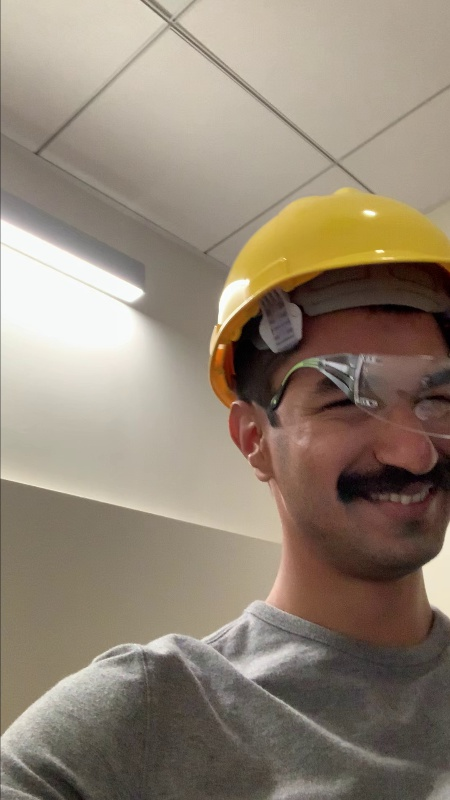helmet: (200, 182, 450, 335)
